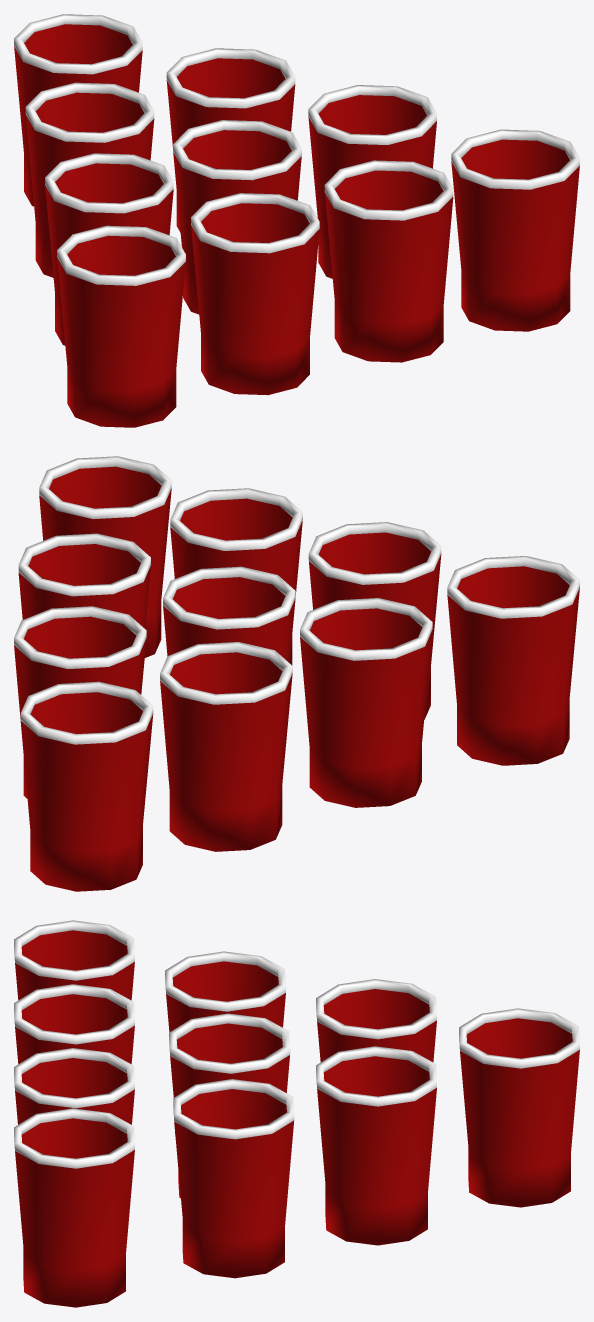
File: beerpongcups3.obj
3 renders of one model, top to bottom at view 1: azimuth 30°, elevation 25°; view 2: azimuth 150°, elevation 25°; view 3: azimuth 270°, elevation 25°, orthographic. The views are drawn at different scales.
Visible parts, largest first — view 1: Cup, Rim; view 2: Cup, Rim; view 3: Cup, Rim.
Part boxes in pixels (x1,y1,x2,y2): Cup: [14, 24, 579, 427]; Rim: [14, 14, 579, 285]; Cup: [14, 466, 579, 891]; Rim: [14, 456, 579, 744]; Cup: [15, 930, 579, 1307]; Rim: [14, 920, 579, 1168].
Size of the model in its own units: 0.07 by 0.0202 by 0.0693.
